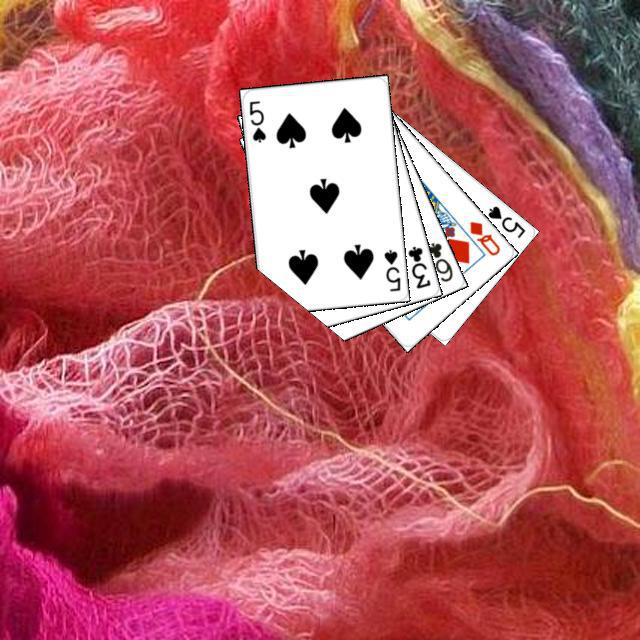3c: (403, 241, 432, 290)
5s: (483, 201, 527, 240), (244, 96, 268, 144), (379, 244, 402, 293)
6c: (422, 237, 454, 284)
Qd: (464, 216, 502, 257)
